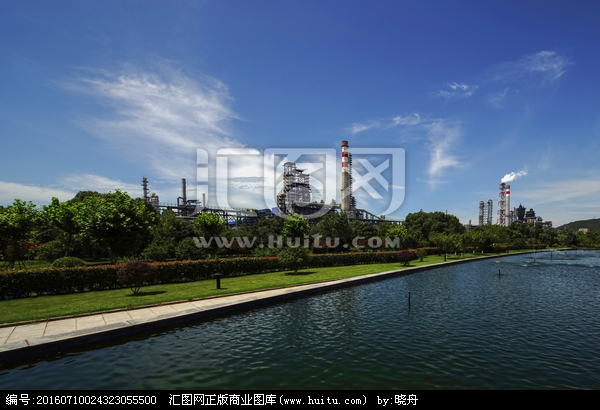dust: (484, 160, 531, 188)
